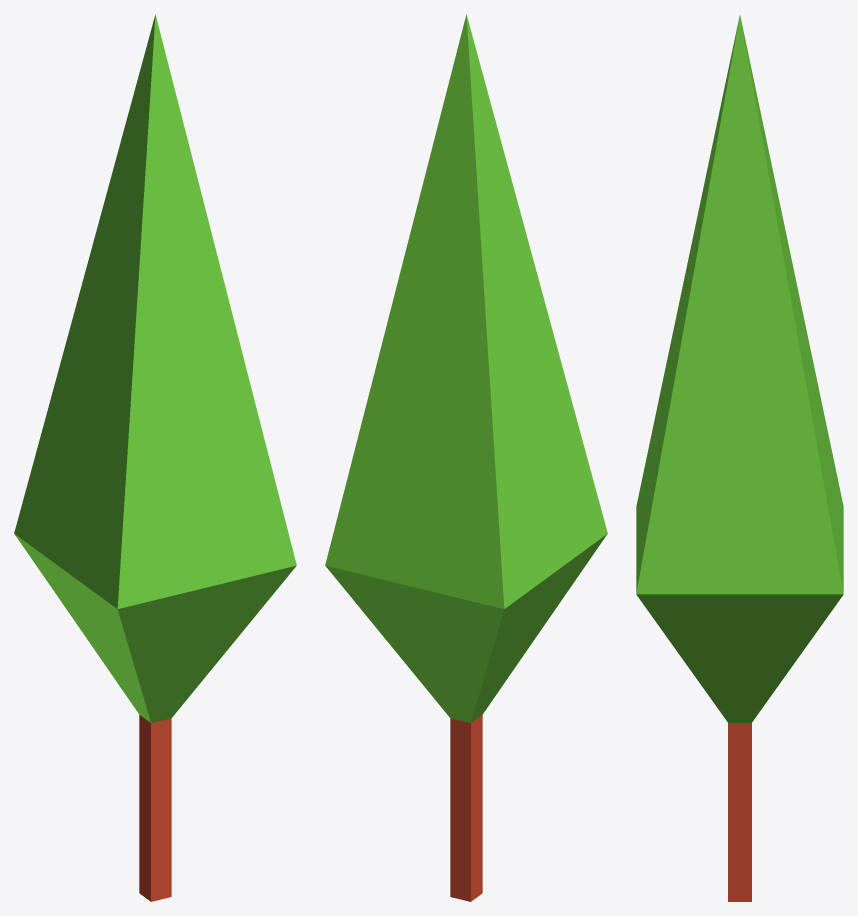
Rendered from tree 2.fbx.
3 views of the same model, side by side, from view 1: azimuth 30°, elevation 25°; view 2: azimuth 150°, elevation 25°; view 3: azimuth 270°, elevation 25° (orthographic).
Visible parts, largest first — view 1: Cube; view 2: Cube; view 3: Cube.
Boxes of the visible parts, box(x1,y1,x2,y2) form: Cube: box(14, 14, 296, 901); Cube: box(325, 14, 607, 901); Cube: box(636, 15, 843, 901).
Bounding box in the file's own units: 294 × 1380 × 294.
